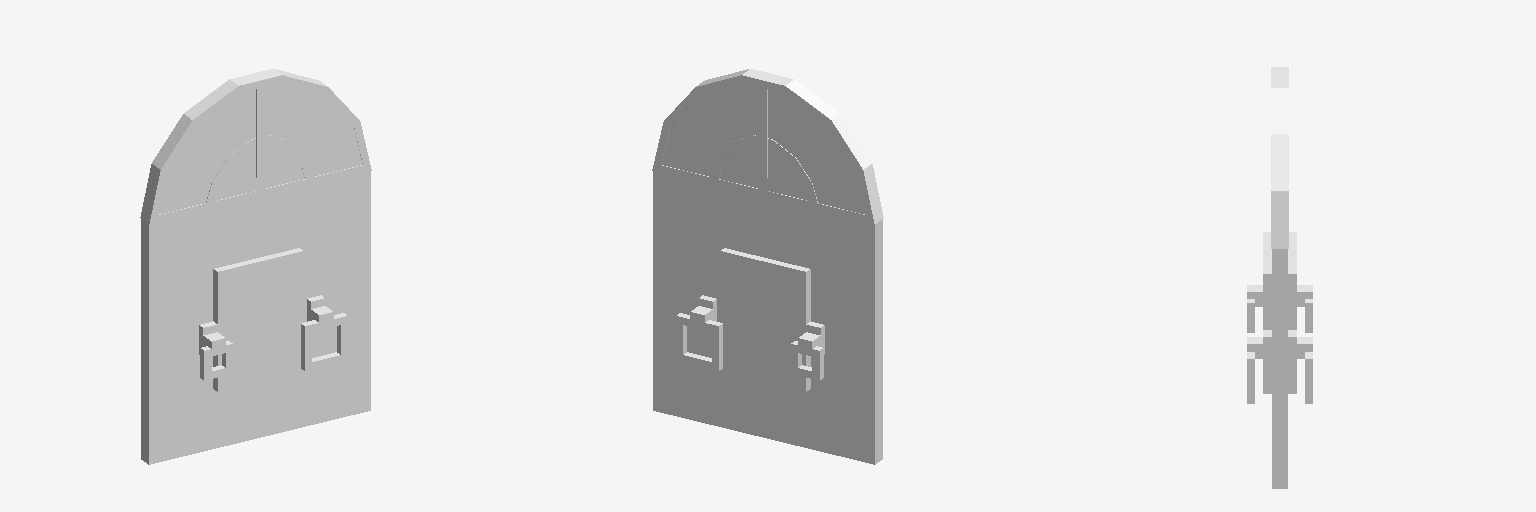
File: big_door.obj
The picture shows the model from 3 angles: view 1: azimuth 30°, elevation 25°; view 2: azimuth 150°, elevation 25°; view 3: azimuth 270°, elevation 25°; orthographic projection.
Visible parts, largest first — view 1: D_pixel_door_set_01:door_32_arch_01_right_Mesh.001, D_pixel_door_set_01:door_32_arch_01_left_Mesh.002; view 2: D_pixel_door_set_01:door_32_arch_01_right_Mesh.001, D_pixel_door_set_01:door_32_arch_01_left_Mesh.002; view 3: D_pixel_door_set_01:door_32_arch_01_right_Mesh.001, D_pixel_door_set_01:door_32_arch_01_left_Mesh.002.
Boxes of the visible parts, x1=… form: D_pixel_door_set_01:door_32_arch_01_right_Mesh.001: x1=213, y1=69, x2=371, y2=437; D_pixel_door_set_01:door_32_arch_01_left_Mesh.002: x1=140, y1=73, x2=263, y2=464; D_pixel_door_set_01:door_32_arch_01_right_Mesh.001: x1=652, y1=69, x2=810, y2=437; D_pixel_door_set_01:door_32_arch_01_left_Mesh.002: x1=760, y1=73, x2=883, y2=464; D_pixel_door_set_01:door_32_arch_01_right_Mesh.001: x1=1247, y1=75, x2=1312, y2=488; D_pixel_door_set_01:door_32_arch_01_left_Mesh.002: x1=1247, y1=67, x2=1312, y2=332.
Bounding box in the file's own units: 0.31 × 0.476 × 0.08.